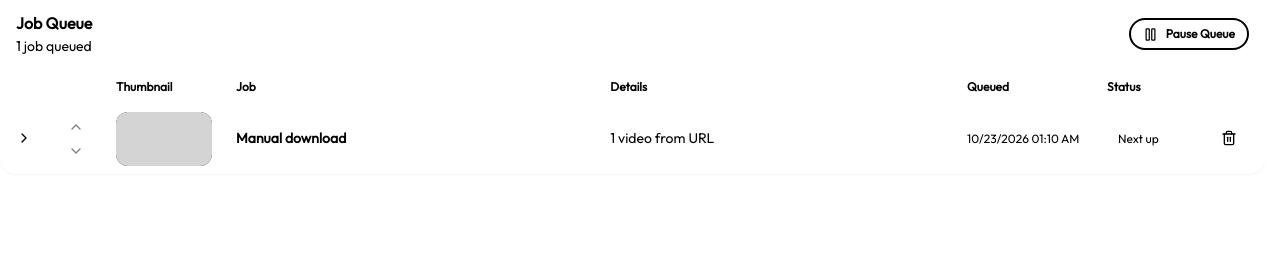
Scenario: JobQueueTable › the last remaining video in a job cannot be removed from the expansion
The width and height of the screenshot is (1280, 262).
Click the button named "Expand video list" at (24, 138), box [12,126,36,150]
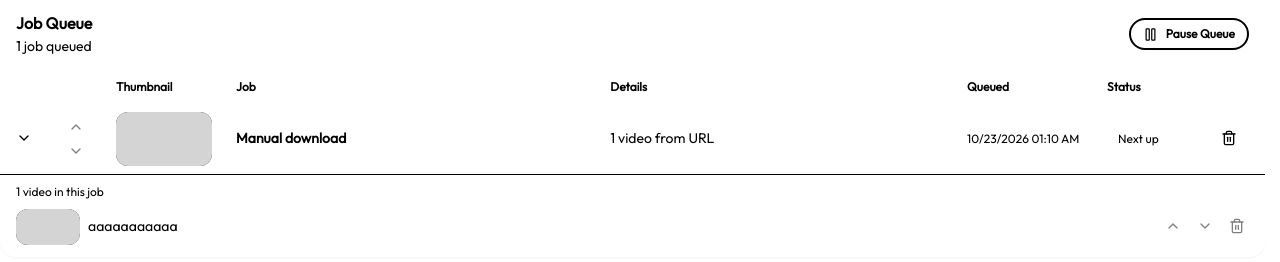
Check: the button named "Remove video from job" is disabled, box [1225,214,1249,238]
